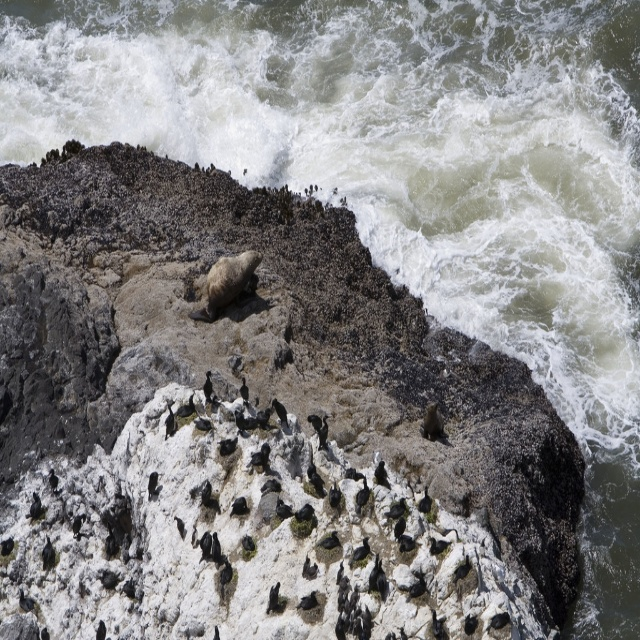Sea lion: (188, 255, 264, 325), (420, 408, 449, 438)
